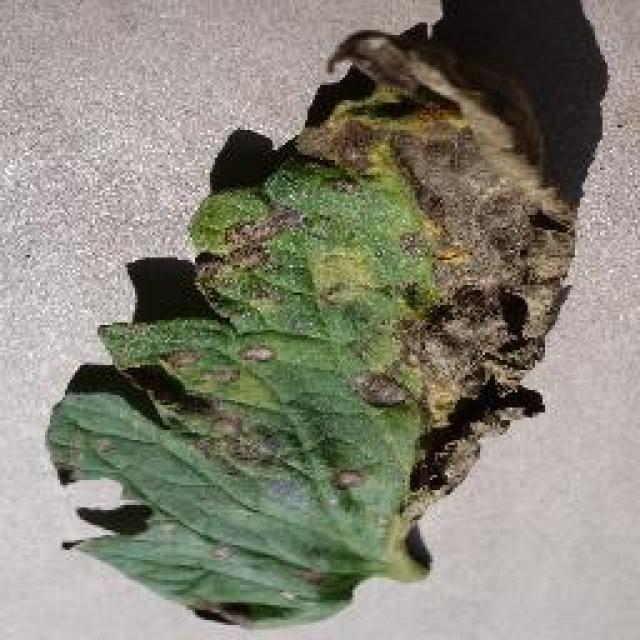Tomato Early blight leaf: (47, 17, 585, 626)
